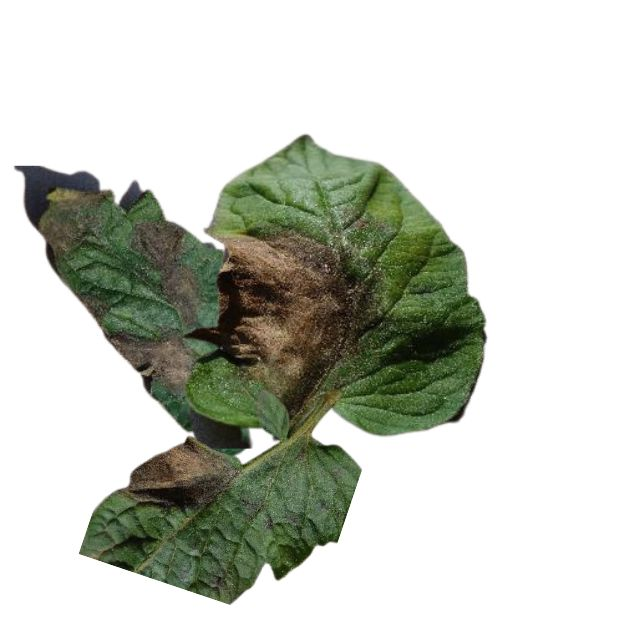Late_blight: (213, 228, 382, 423), (121, 438, 242, 514), (130, 219, 202, 329), (32, 184, 114, 266), (114, 328, 200, 398), (75, 290, 110, 327)
